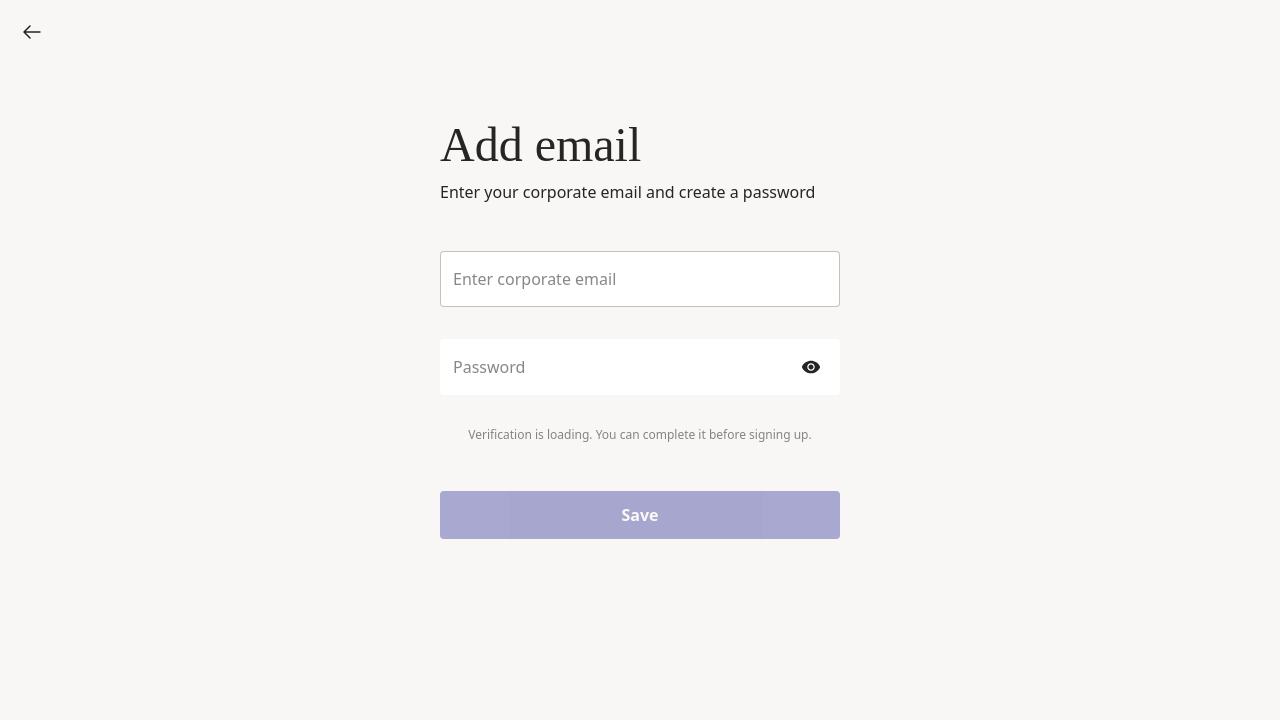
Test: AddEmailModal (#1459) › valid credentials enable Save while verification is loading
This screenshot has width=1280, height=720.
Type "lp@example.com" into the field with placeholder "Enter corporate email".
click(640, 279); type("lp@example.com")  # box [453,268,827,290]
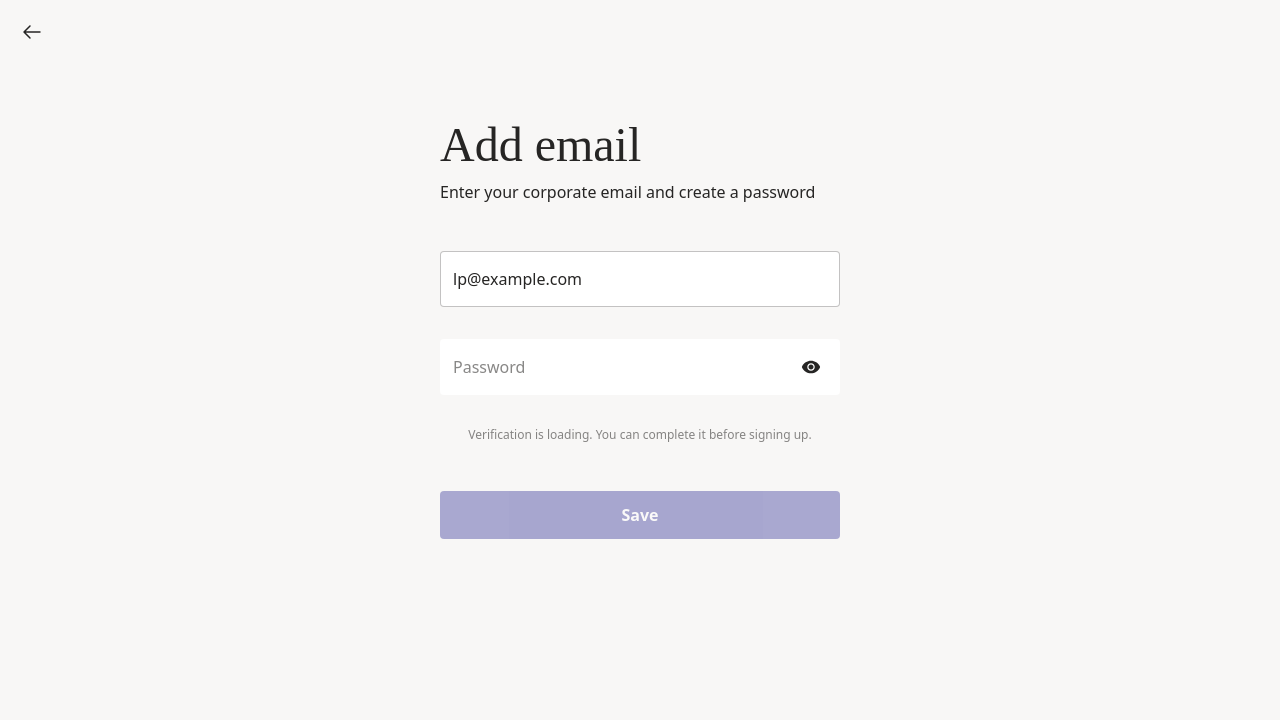
Type "P@ssw0rd!" into the password field with placeholder "Password".
click(622, 367); type("P@ssw0rd!")  # box [453,356,791,378]
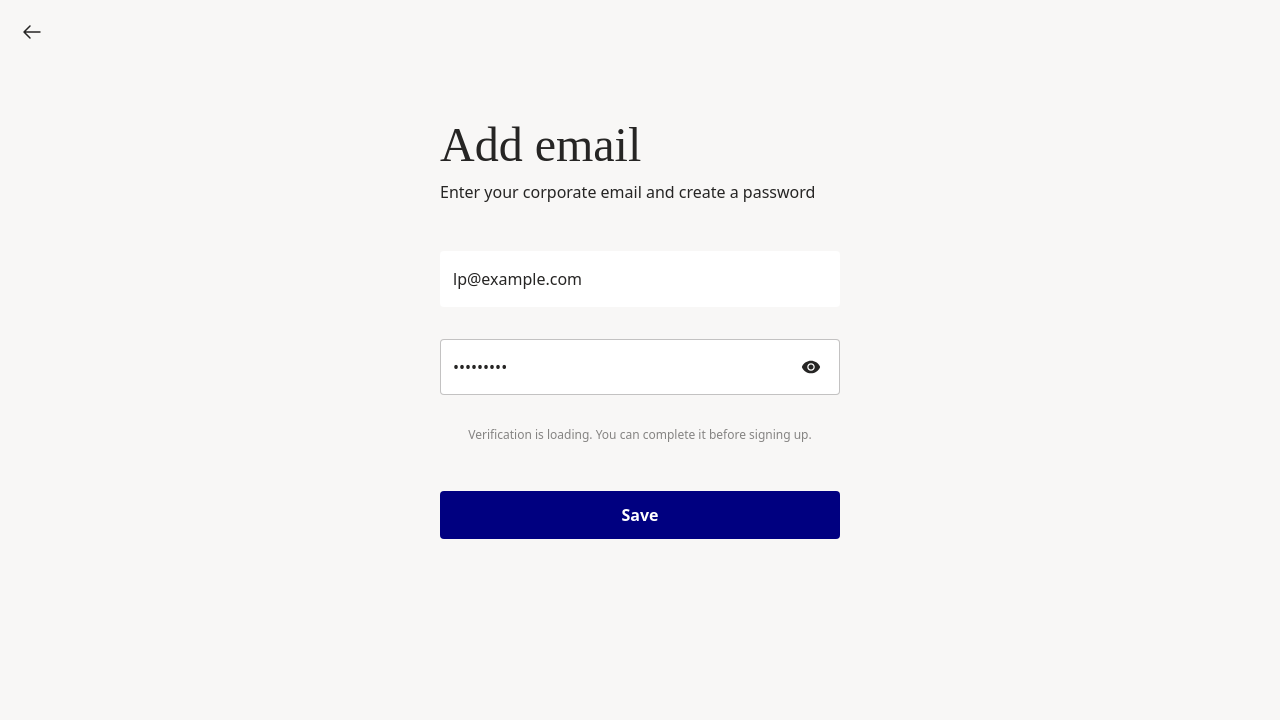
Expected: the message shows "Verification is loading", [468,426,812,443]
Expected: the button "Save" is enabled, [440,491,840,539]
